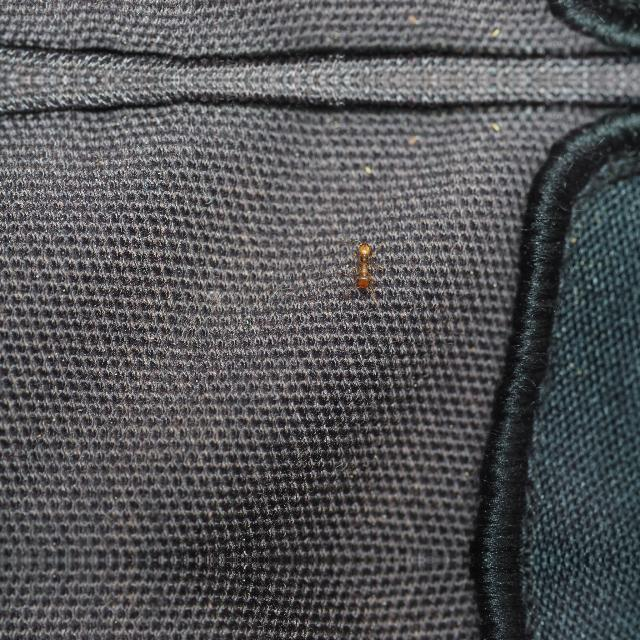Temnothorax: (340, 232, 390, 294)
